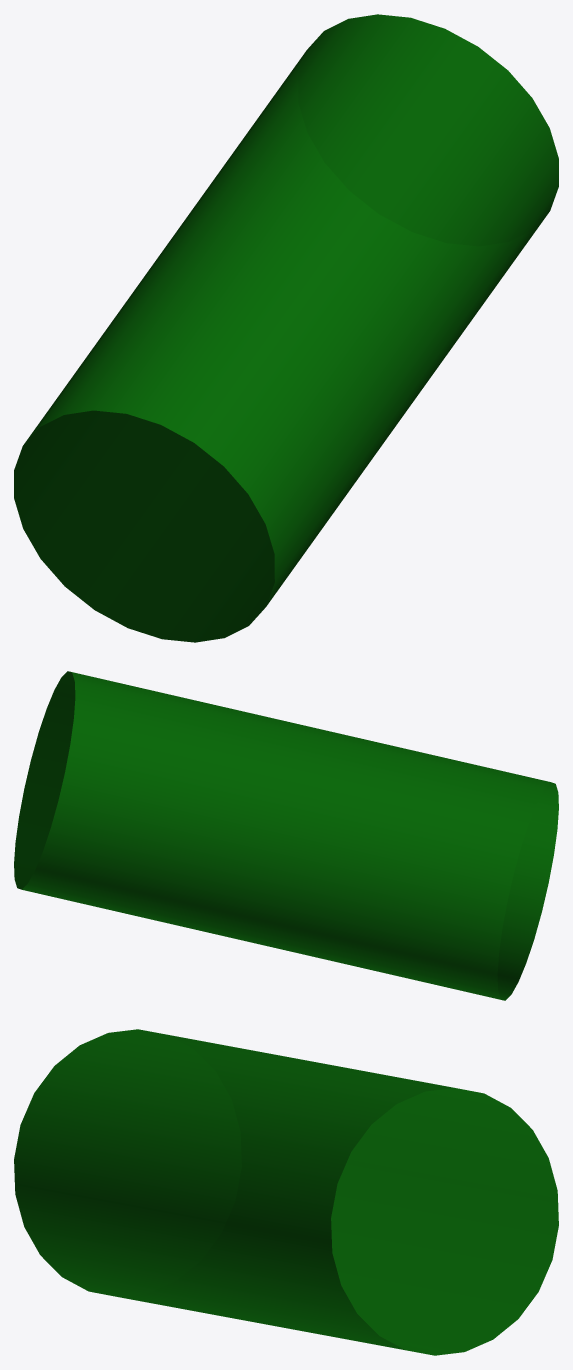
File: Event_421115418_jet_8.fbx
3 renders of one model, top to bottom at view 1: azimuth 30°, elevation 25°; view 2: azimuth 150°, elevation 25°; view 3: azimuth 270°, elevation 25°, orthographic. The views are drawn at different scales.
Visible parts, largest first — view 1: Model; view 2: Model; view 3: Model.
Part boxes in pixels (bbox=[...]): Model: bbox=[14, 14, 558, 642]; Model: bbox=[14, 671, 558, 1000]; Model: bbox=[14, 1029, 558, 1355].
Bounding box in the file's own units: 0.0956 × 0.0626 × 0.081.
